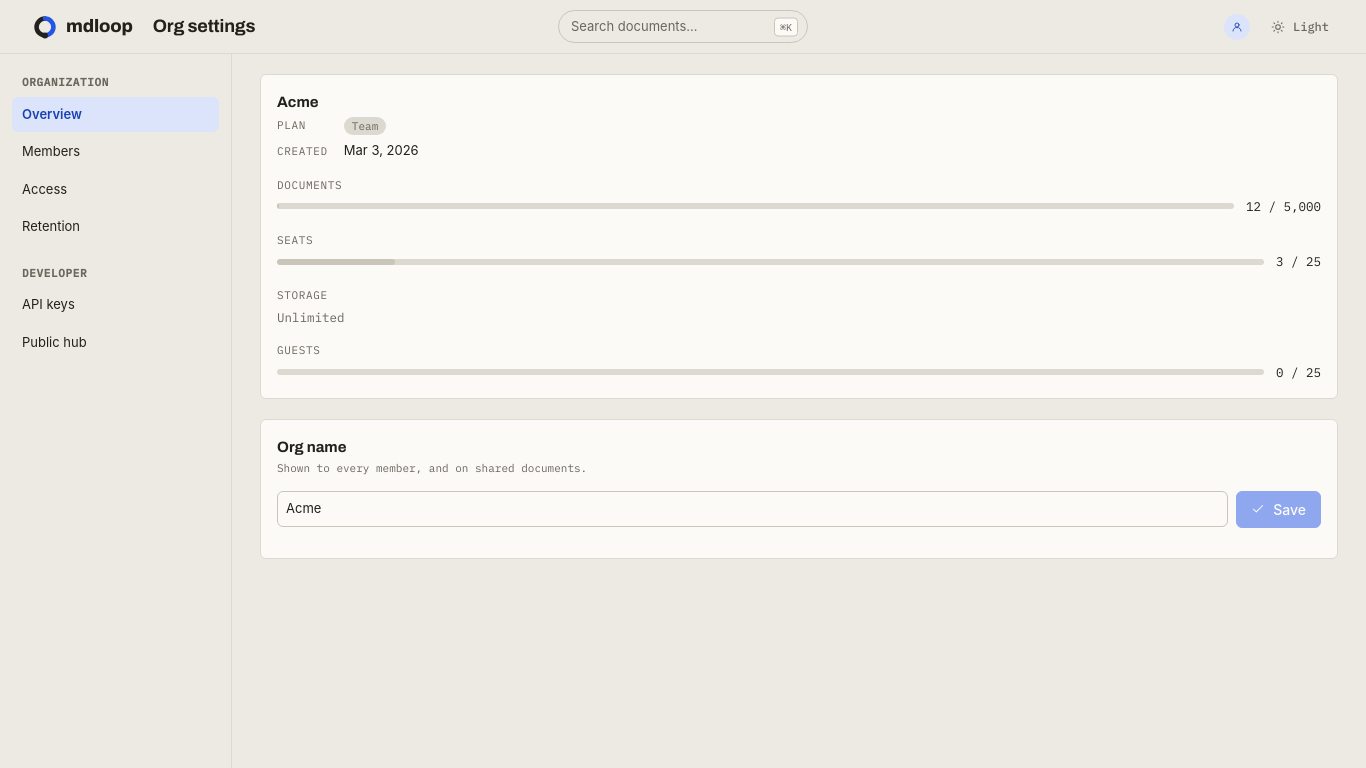
OrgSettings › shows readable copy for a failed invite, never the raw error code
This screenshot has width=1366, height=768.
Click the button "Members" at (116, 152), box x1=12 y1=134 x2=219 y2=170
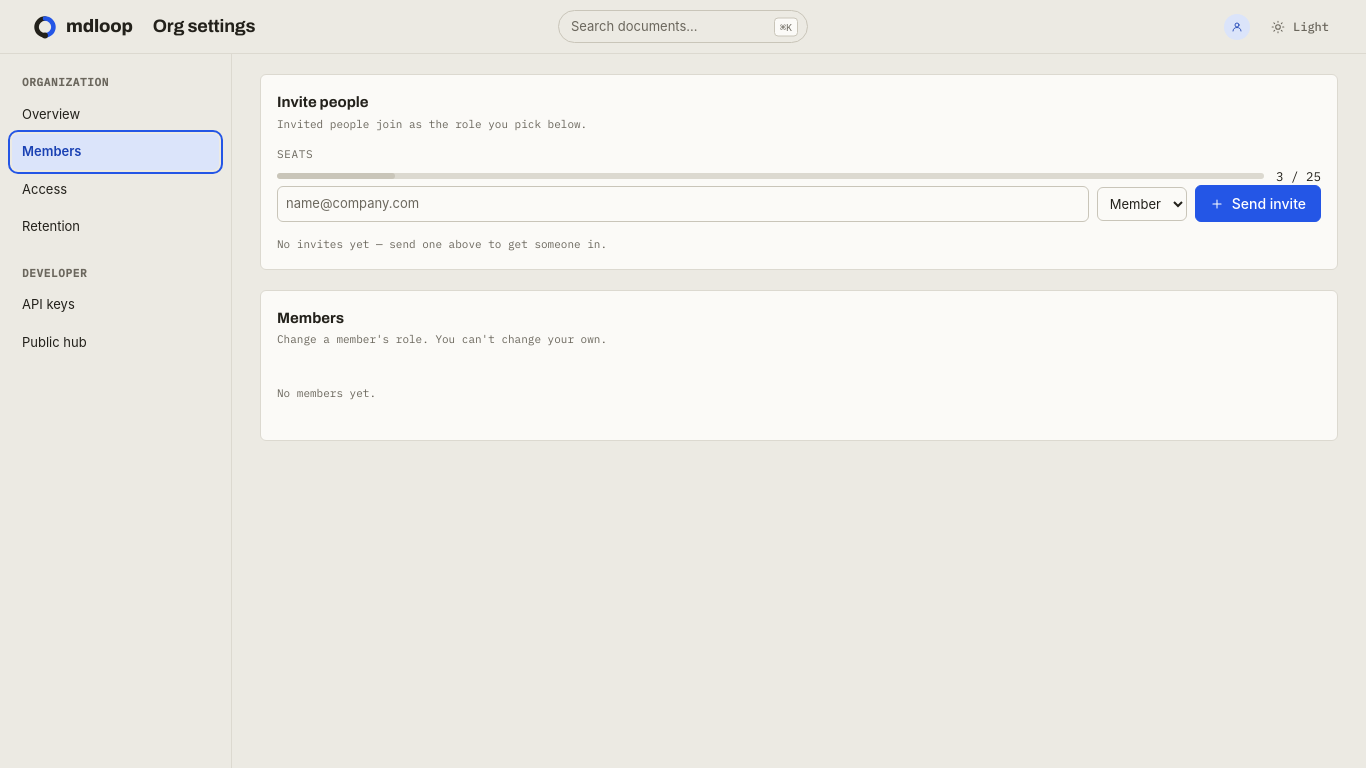
Type "friend@co.com" into the field named "Email to invite" at (683, 204), box x1=277 y1=186 x2=1089 y2=222
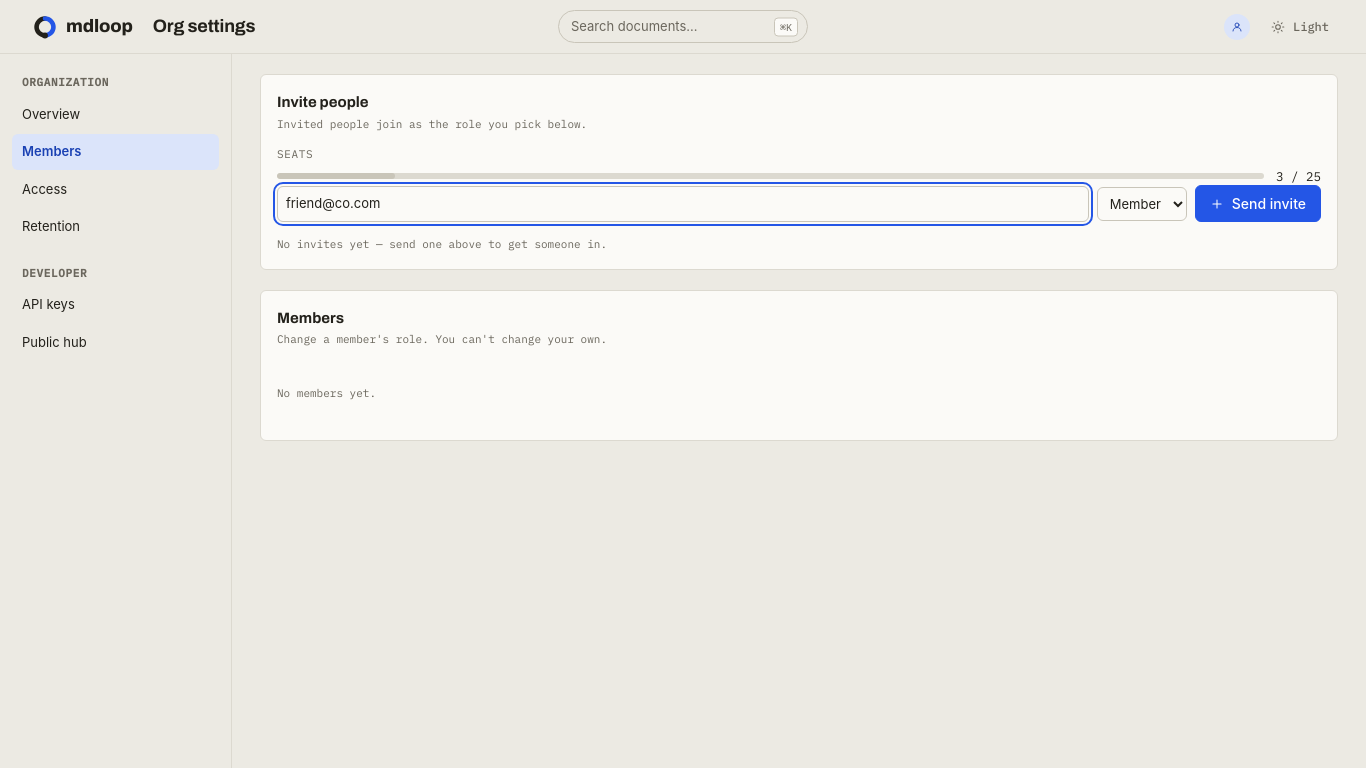
Click the button "Send invite" at (1258, 204), box x1=1195 y1=185 x2=1321 y2=222
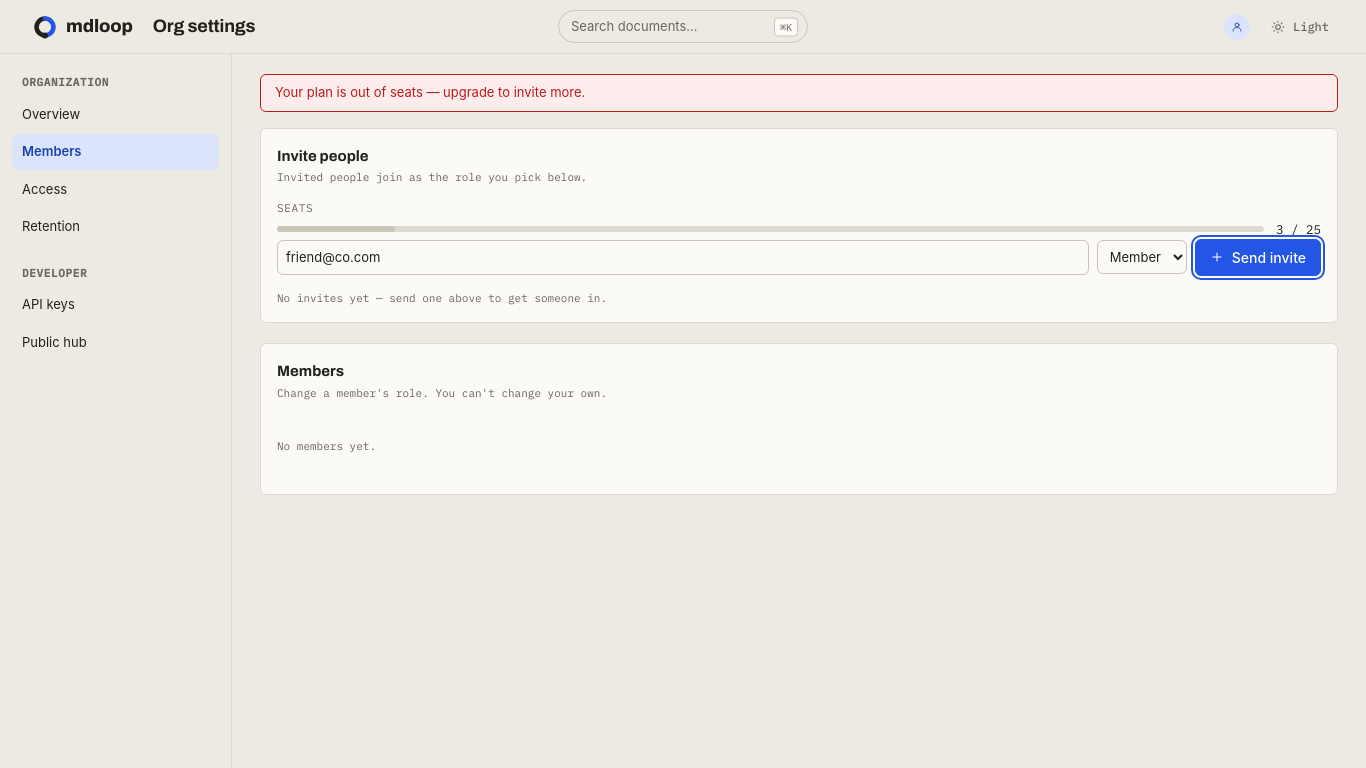
Expected: the text "Your plan is out of seats — upgrade to invite more." is shown, x1=260 y1=74 x2=1338 y2=112
